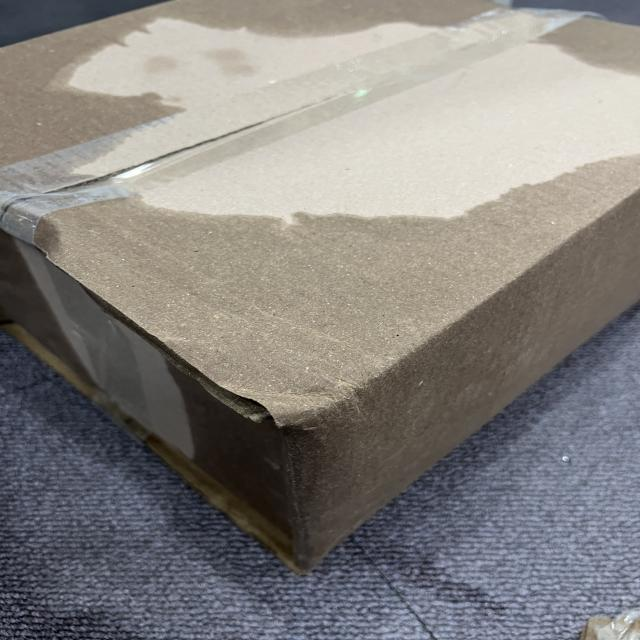wet: (31, 199, 640, 566), (0, 21, 140, 167), (144, 0, 498, 32), (541, 2, 640, 94)
